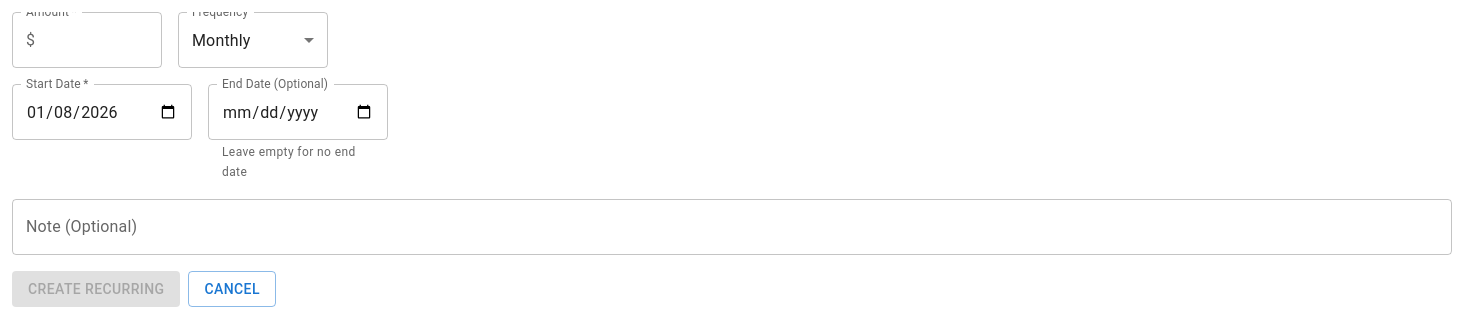
RecurringContributionForm › enables submit when amount is entered
The width and height of the screenshot is (1464, 327).
Type "100" into the number field labelled "Amount *". click: (103, 40)
box: [43,12,162,68]
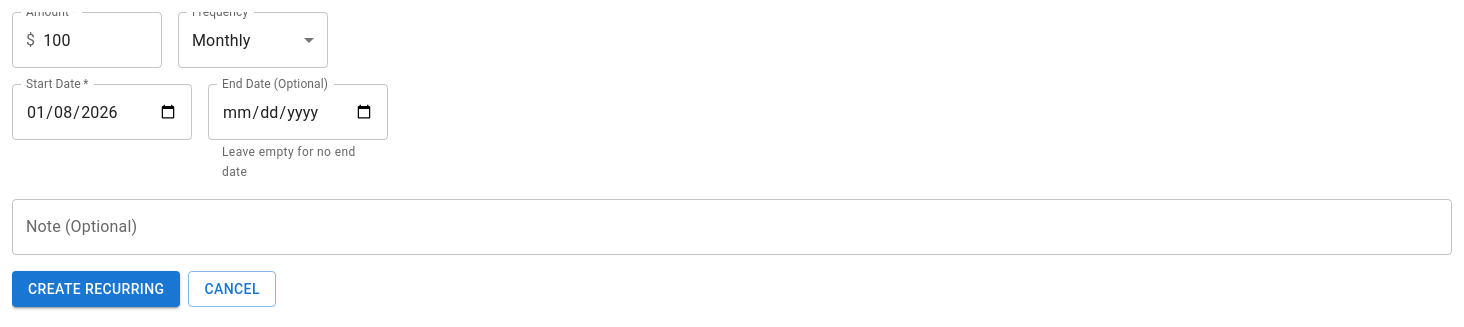
Now the button "Create Recurring" is enabled, box [12,271,180,307]
